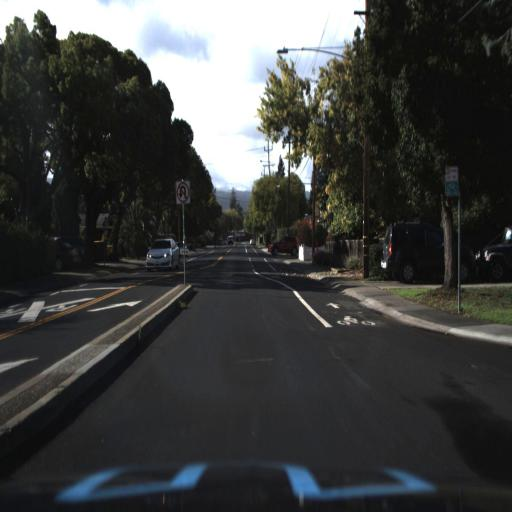car: (380, 212, 469, 282), (140, 230, 181, 276), (50, 228, 82, 280), (265, 231, 298, 257)
